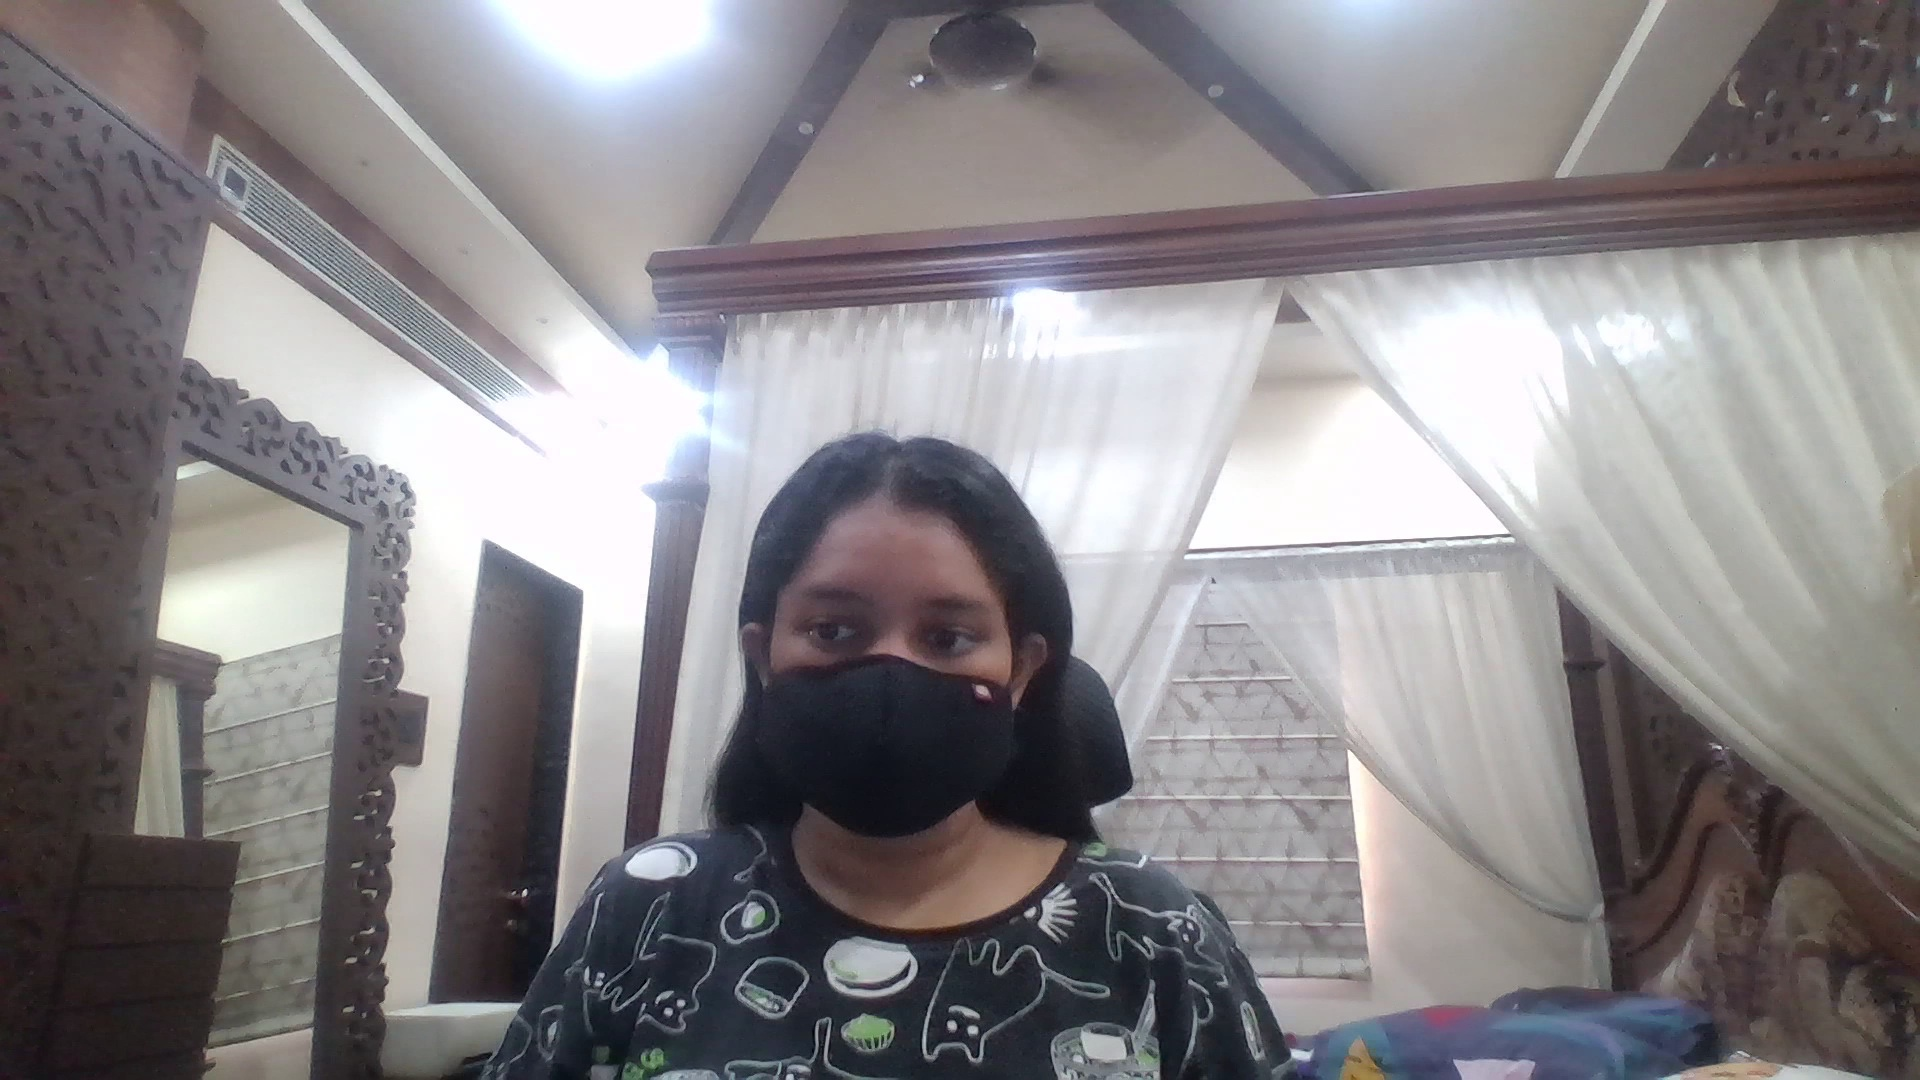Mask: (746, 659, 1017, 841)
